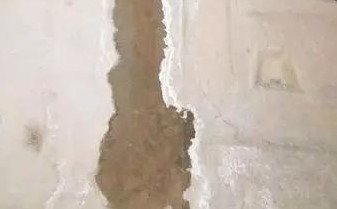Corrosion: (93, 1, 195, 209)
